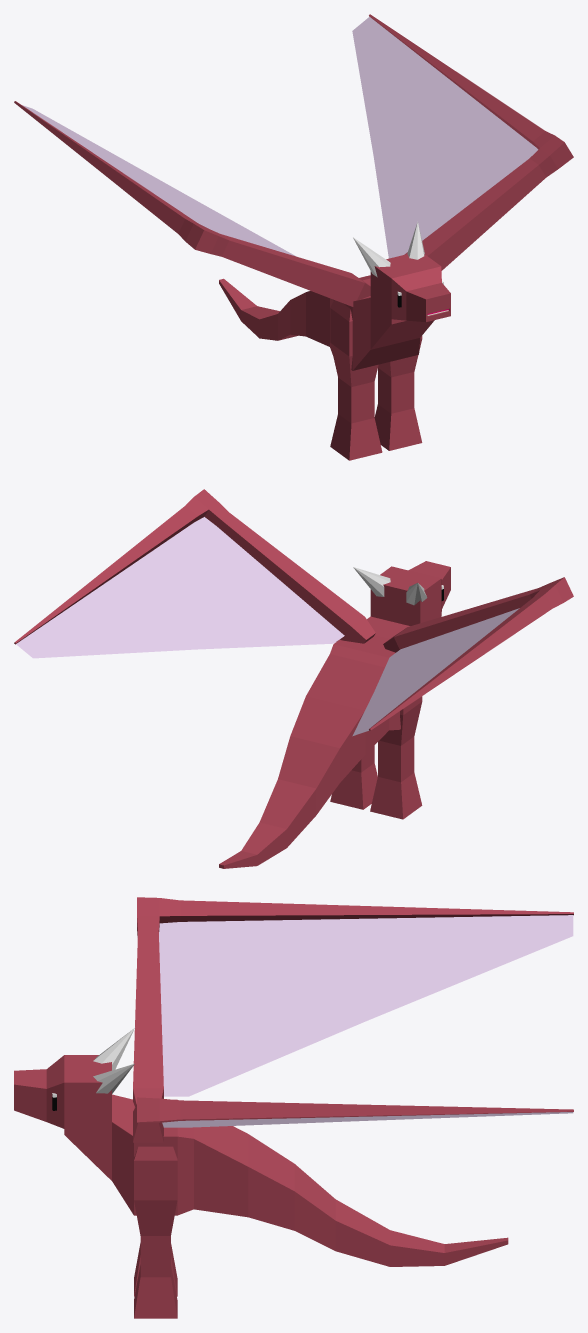
The model's file is dragon (twolegged red).fbx.
3 views of the same model, one above another, from view 1: azimuth 30°, elevation 25°; view 2: azimuth 150°, elevation 25°; view 3: azimuth 270°, elevation 25° (orthographic). The views are drawn at different scales.
Parts seen in each view (by area): view 1: Dragon WIngs, Dragon Legs, Dragon Body, Dragon Head, Dragon horns; view 2: Dragon WIngs, Dragon Body, Dragon Legs, Dragon Head, Dragon horns; view 3: Dragon WIngs, Dragon Body, Dragon Head, Dragon Legs, Dragon horns.
Part boxes in pixels (x1,y1,x2,y2): Dragon WIngs: (14, 14, 573, 306); Dragon Legs: (330, 300, 422, 460); Dragon Body: (219, 275, 420, 370); Dragon Head: (370, 254, 450, 349); Dragon horns: (353, 221, 424, 277); Dragon WIngs: (14, 489, 573, 736); Dragon Body: (219, 585, 420, 868); Dragon Legs: (330, 696, 422, 819); Dragon Head: (380, 561, 450, 623); Dragon horns: (353, 567, 427, 605); Dragon WIngs: (133, 897, 573, 1142); Dragon Body: (112, 1094, 508, 1266); Dragon Head: (14, 1055, 111, 1180); Dragon Legs: (134, 1146, 177, 1318); Dragon horns: (93, 1028, 134, 1093).
Size of the model in its own units: 1142 by 762 by 1285.
